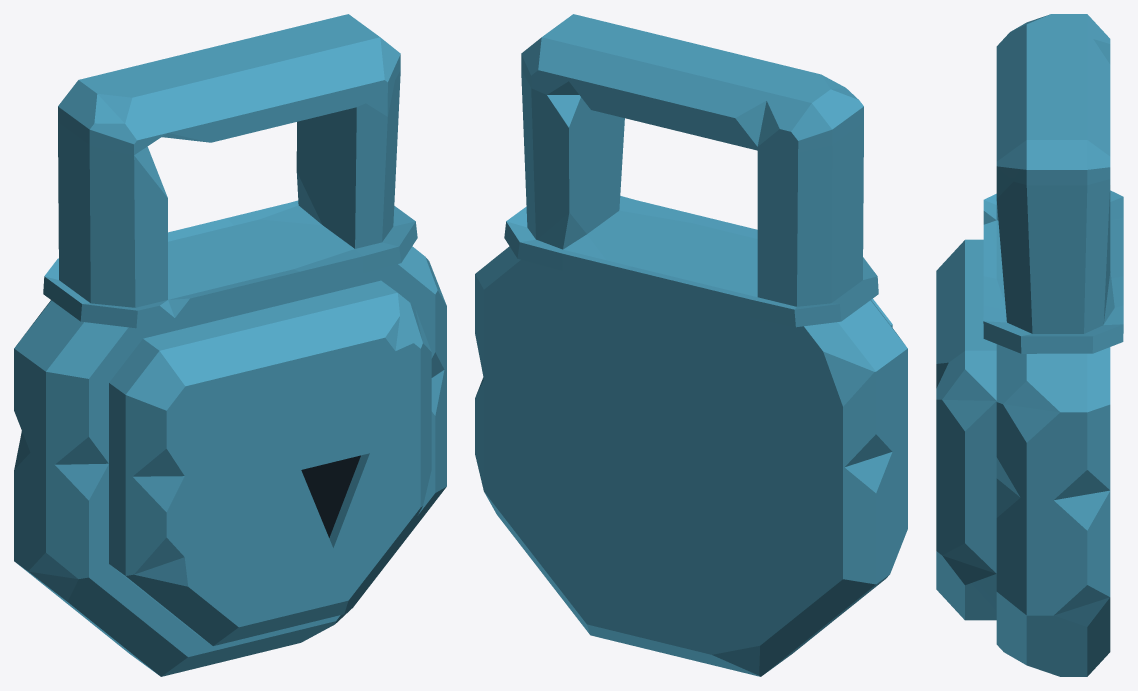
Rendered from blue_lock.glb.
The picture shows the model from 3 angles, left to right: view 1: azimuth 30°, elevation 25°; view 2: azimuth 150°, elevation 25°; view 3: azimuth 270°, elevation 25°; orthographic projection. The views are drawn at different scales.
Visible parts, largest first — view 1: Circle.019; view 2: Circle.019; view 3: Circle.019.
Part boxes in pixels (x1,y1,x2,y2): Circle.019: (14, 14, 446, 676); Circle.019: (475, 14, 907, 676); Circle.019: (936, 14, 1123, 676).
Size of the model in its own units: 2 by 2.79 by 0.8475.
Materials: 1 (1 with a texture image).
